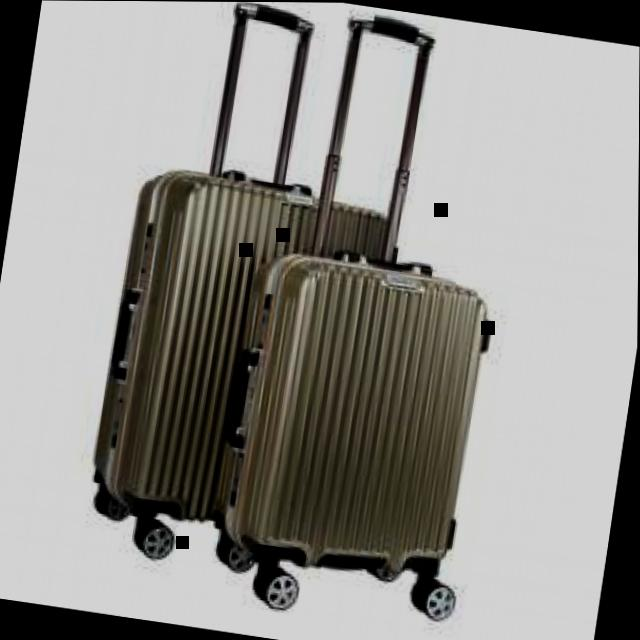luggage: (209, 229, 510, 593)
